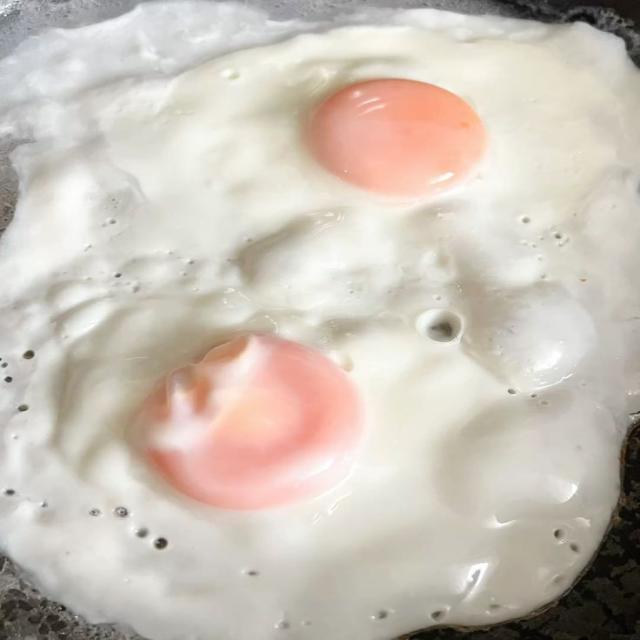fryed egg: (0, 2, 639, 639)
